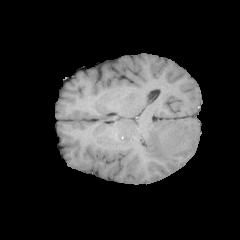glioma: (141, 120, 196, 164)
